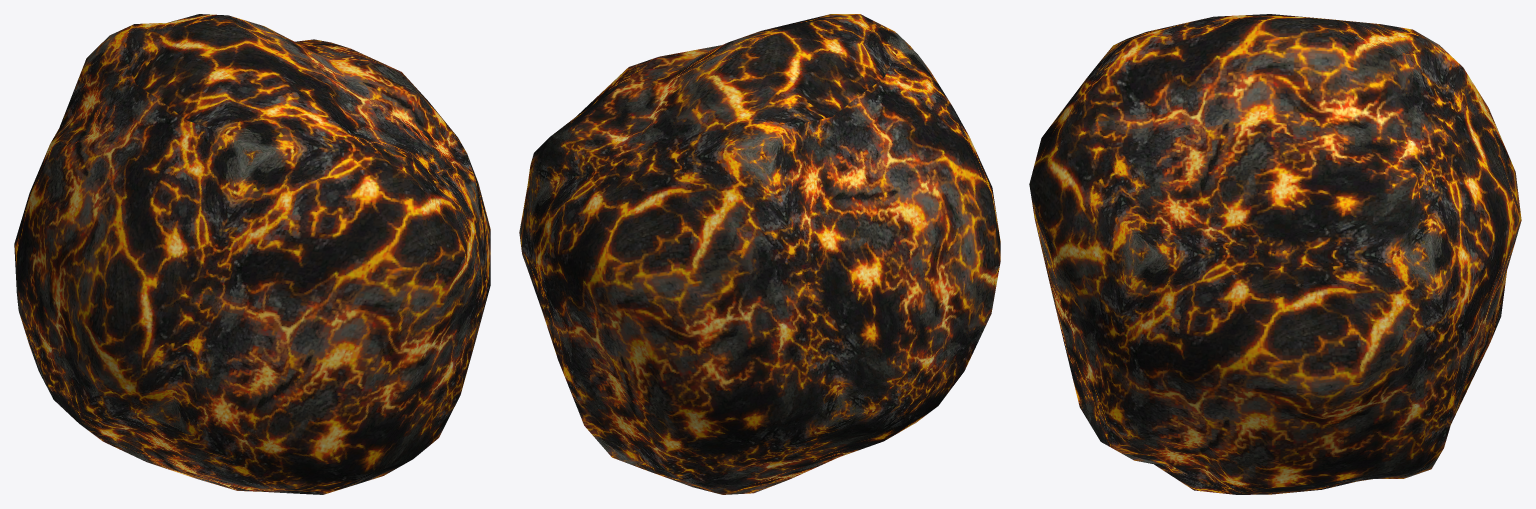
The model's file is planetoid_moltenrock_s01_l3.fbx.
The picture shows the model from 3 angles, left to right: view 1: azimuth 30°, elevation 25°; view 2: azimuth 150°, elevation 25°; view 3: azimuth 270°, elevation 25°; orthographic projection. The views are drawn at different scales.
Parts seen in each view (by area): view 1: mesh_node; view 2: mesh_node; view 3: mesh_node.
Part boxes in pixels (box(x1,y1,x2,y2)): mesh_node: box(14, 14, 490, 494); mesh_node: box(519, 14, 1000, 494); mesh_node: box(1029, 14, 1521, 494).
Size of the model in its own units: 461 by 478 by 473.
